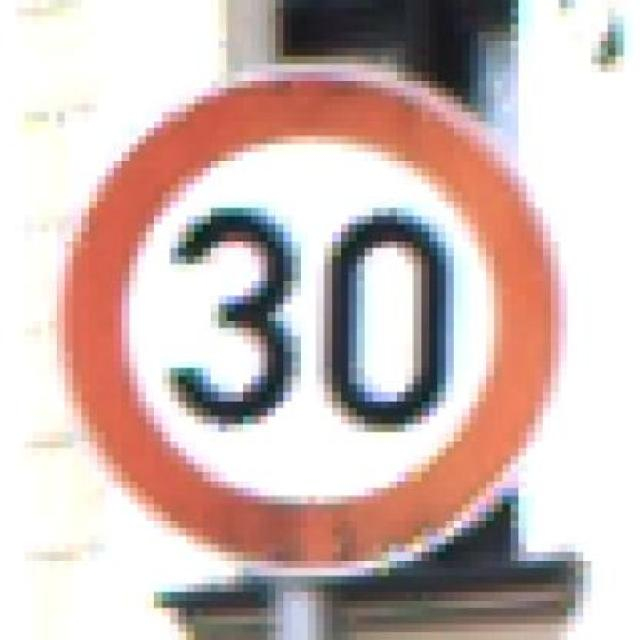Speed Limit 30 KMPh: (24, 40, 624, 608)
